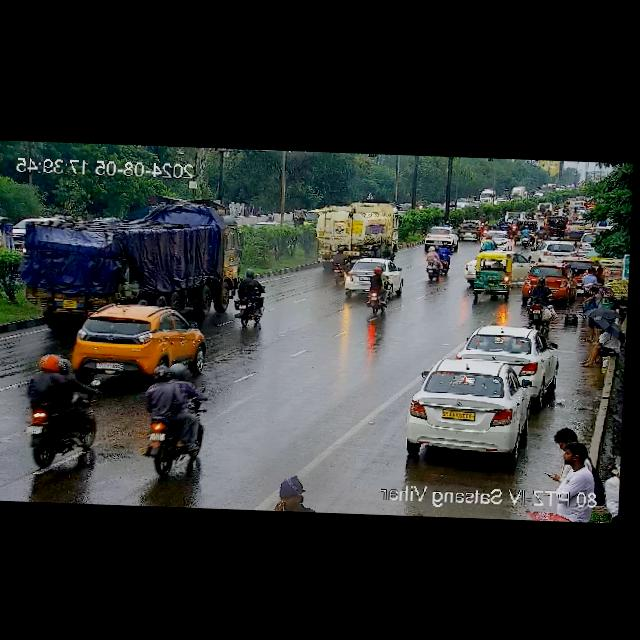car: (404, 357, 533, 457), (69, 300, 214, 377), (461, 325, 555, 386), (337, 256, 404, 300), (470, 249, 513, 302), (529, 238, 581, 262), (548, 264, 577, 302), (422, 226, 460, 246), (512, 248, 532, 283), (457, 222, 484, 242), (567, 220, 587, 242), (552, 215, 568, 235), (621, 252, 630, 281), (504, 208, 527, 218), (534, 202, 551, 215)
motorcycle: (23, 353, 101, 459), (142, 356, 205, 478), (225, 269, 273, 330), (523, 275, 556, 318), (361, 268, 394, 311), (421, 244, 451, 283), (516, 221, 537, 248), (508, 216, 522, 239), (476, 236, 496, 251), (503, 217, 516, 236), (543, 213, 551, 236), (537, 225, 548, 240), (571, 209, 578, 220), (553, 205, 560, 215), (562, 208, 569, 216)
person: (543, 423, 601, 486), (578, 323, 625, 370), (275, 474, 322, 512), (584, 287, 604, 338), (576, 266, 599, 294)
truck: (23, 192, 239, 324), (305, 197, 398, 272)
